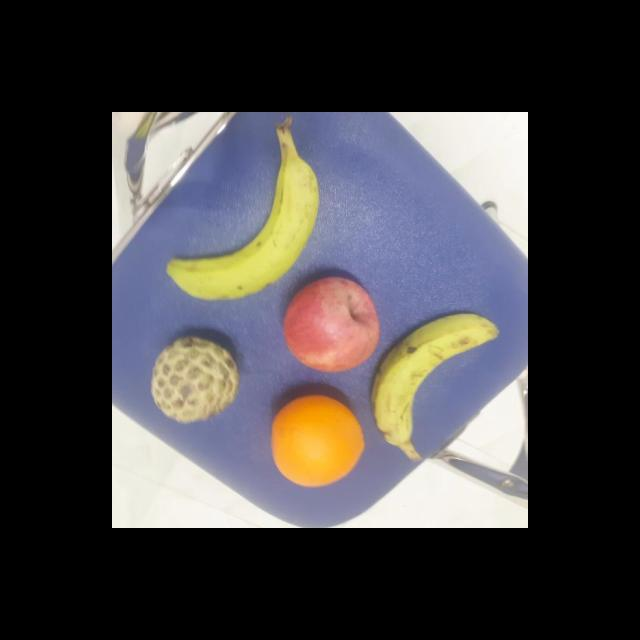Sakya fruit: (149, 331, 245, 423)
apple: (277, 276, 382, 376)
banana: (161, 148, 331, 304), (372, 314, 507, 451)
orange: (266, 392, 365, 489)
